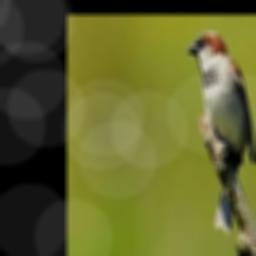Sparrow: (188, 31, 256, 233)
